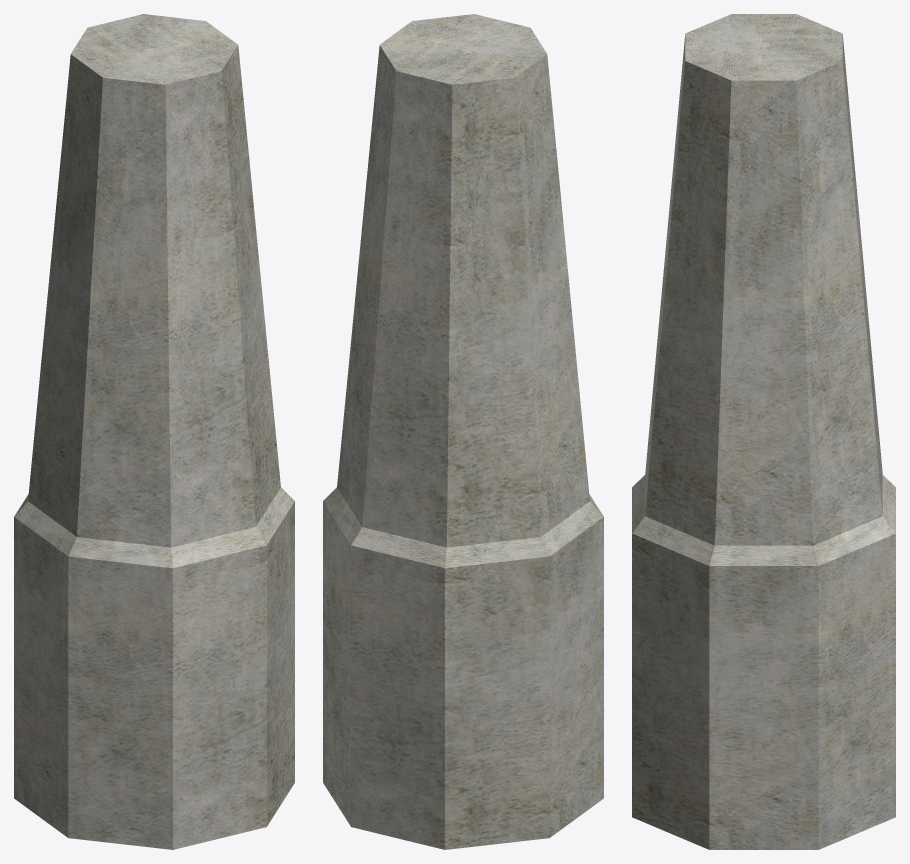
File: mun_all_military_column_weak_rebl_s01_l0.fbx
3 views of the same model, side by side, from view 1: azimuth 30°, elevation 25°; view 2: azimuth 150°, elevation 25°; view 3: azimuth 270°, elevation 25° (orthographic).
Visible parts, largest first — view 1: mesh_node; view 2: mesh_node; view 3: mesh_node.
Boxes of the visible parts, <box> form: mesh_node: <box>14,14,294,849</box>; mesh_node: <box>323,14,603,849</box>; mesh_node: <box>632,14,895,849</box>.
Bounding box in the file's own units: 2 × 6.25 × 2.
